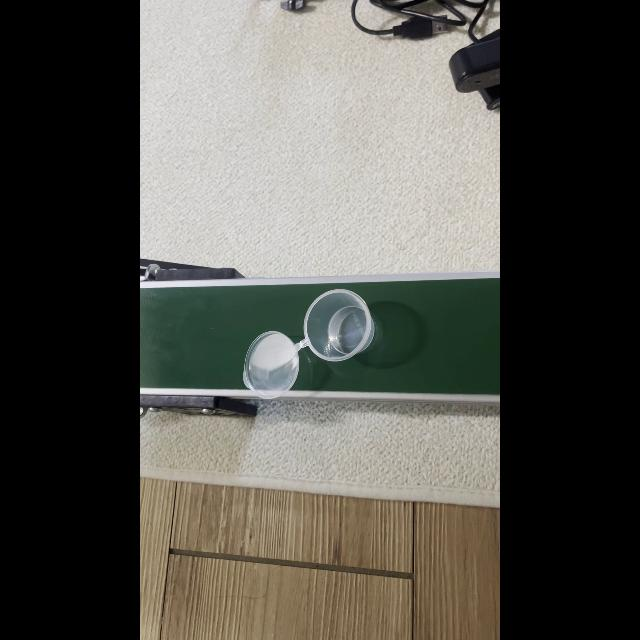clean: (241, 289, 375, 399)
